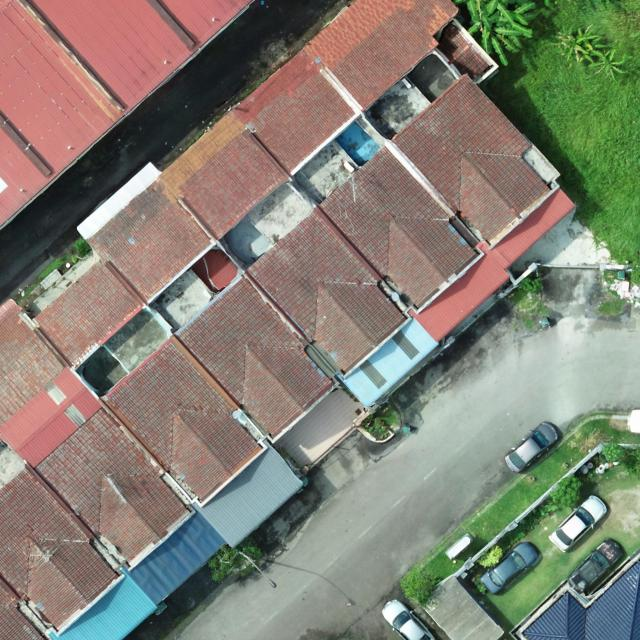Tree: (466, 0, 536, 66), (207, 544, 263, 583), (549, 24, 604, 62), (400, 566, 440, 606), (588, 48, 632, 84), (550, 474, 582, 508), (475, 546, 503, 568), (602, 442, 627, 464)
